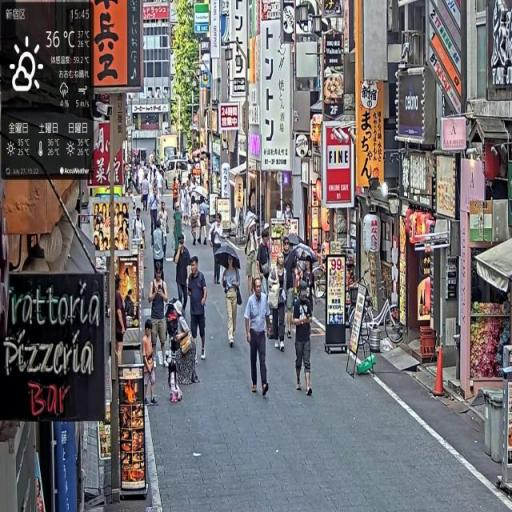person: (245, 276, 274, 401), (293, 280, 316, 397), (187, 256, 210, 363), (173, 300, 201, 387), (149, 265, 171, 368), (223, 254, 244, 351), (268, 255, 289, 350), (281, 238, 299, 339), (174, 234, 193, 320), (111, 278, 128, 366), (143, 320, 159, 408), (152, 217, 168, 288), (211, 213, 226, 287), (258, 230, 273, 294), (172, 201, 186, 265), (133, 206, 148, 264), (148, 186, 160, 243), (199, 196, 211, 249)
